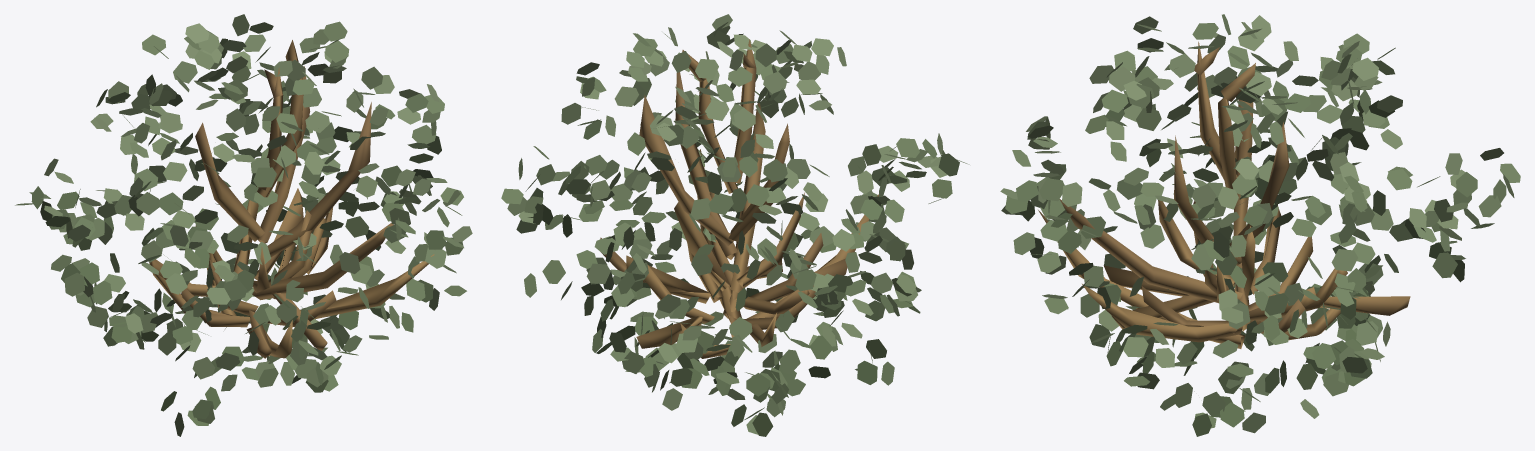
Rendered from sage_shrub_lod0.glb.
3 renders of one model, left to right at view 1: azimuth 30°, elevation 25°; view 2: azimuth 150°, elevation 25°; view 3: azimuth 270°, elevation 25°, orthographic. The views are drawn at different scales.
Visible parts, largest first — view 1: Leaves.012, Trunk.012; view 2: Leaves.012, Trunk.012; view 3: Leaves.012, Trunk.012.
Boxes of the visible parts, x1,y1,x2,y2 form: Leaves.012: [15, 14, 472, 436]; Trunk.012: [149, 40, 434, 358]; Leaves.012: [501, 14, 969, 436]; Trunk.012: [600, 39, 878, 358]; Leaves.012: [1000, 14, 1520, 436]; Trunk.012: [1038, 41, 1410, 348].
Bounding box in the file's own units: 1.15 × 0.975 × 1.22.
